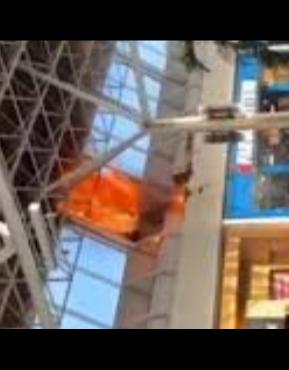fire: (55, 152, 186, 240)
